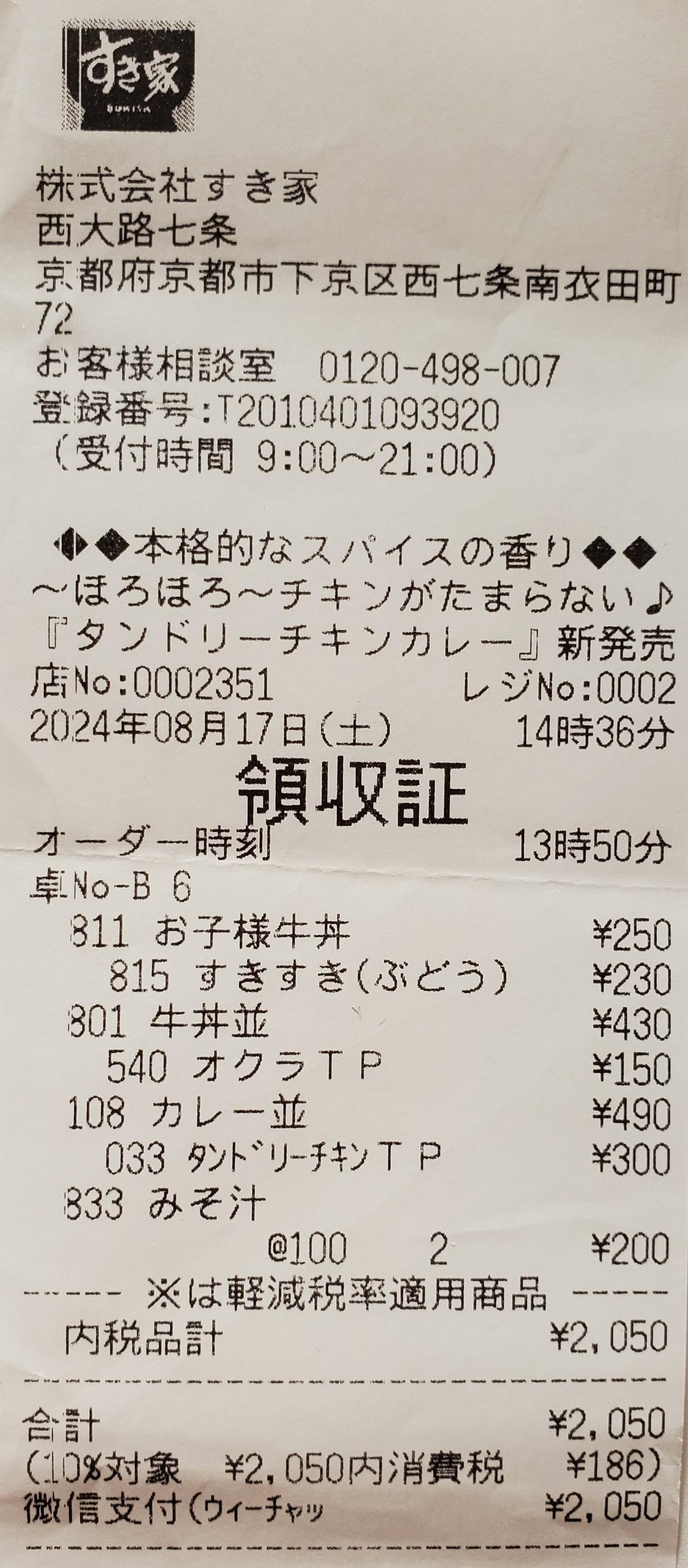TEL: (316, 349, 569, 387)
date: (21, 697, 311, 755)
total: (571, 1397, 671, 1438)
